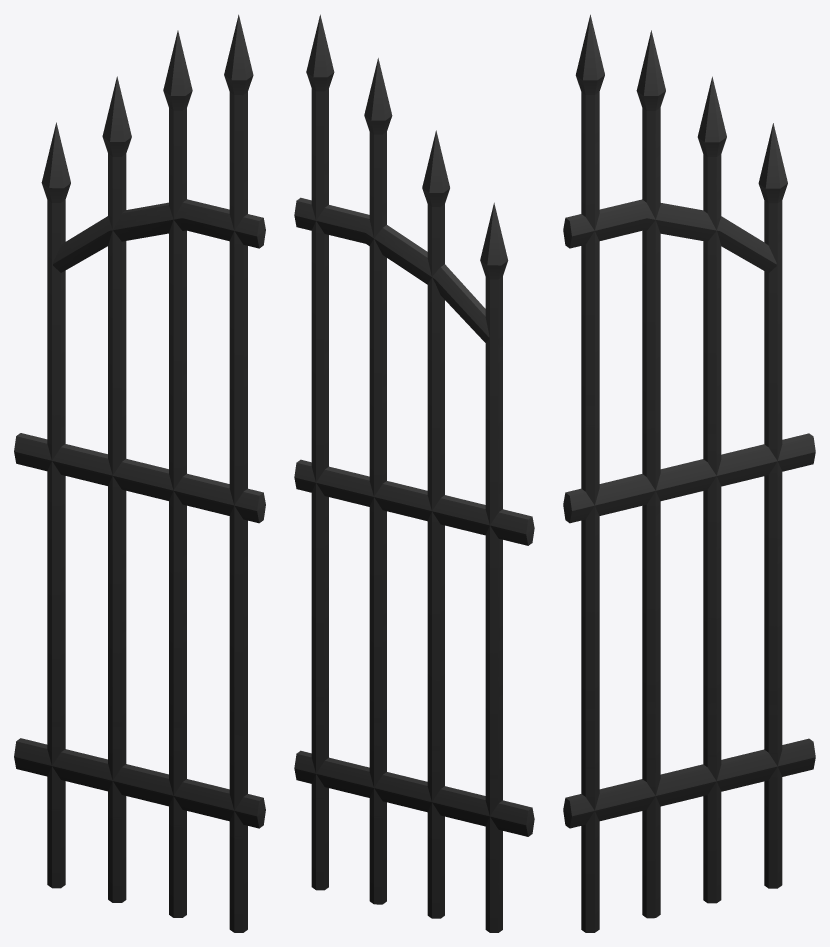
Rendered from fence_gate_right_lev1.glb.
3 renders of one model, left to right at view 1: azimuth 30°, elevation 25°; view 2: azimuth 210°, elevation 25°; view 3: azimuth 270°, elevation 25°, orthographic. The views are drawn at different scales.
Parts seen in each view (by area): view 1: fence_gate_right_lev1; view 2: fence_gate_right_lev1; view 3: fence_gate_right_lev1.
Part boxes in pixels (<box>): fence_gate_right_lev1: <box>14,14,265,932</box>; fence_gate_right_lev1: <box>294,14,534,932</box>; fence_gate_right_lev1: <box>563,14,815,932</box>.
Bounding box in the file's own units: 2.61 × 16.98 × 4.25.
1 material, 1 textured.
